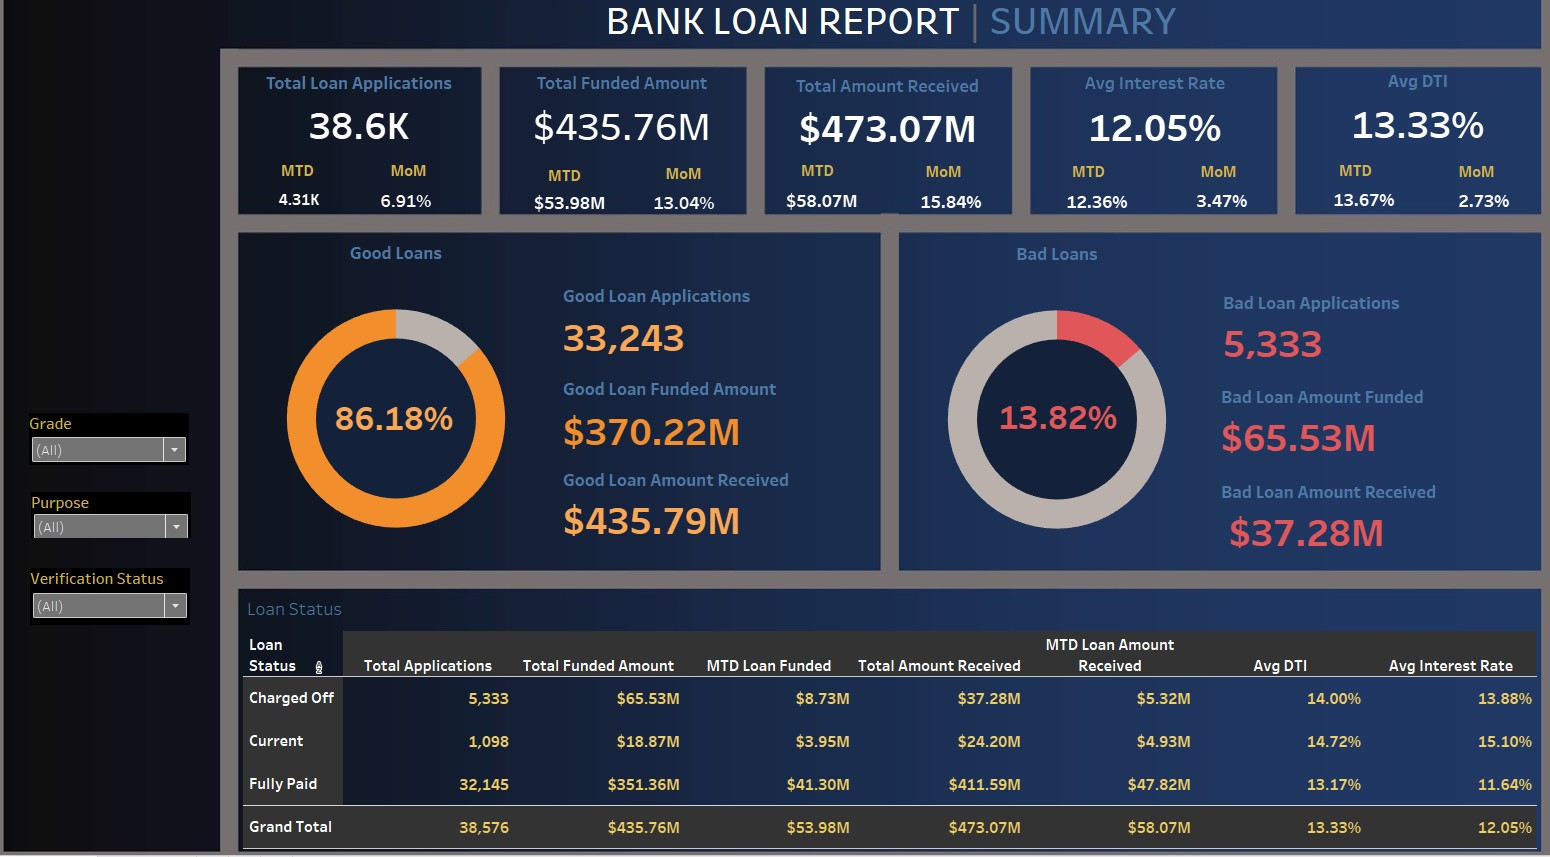

What the dashboard file says about the page in this screenshot:
{"tool":"tableau","page":{"name":"Loan Summary Dashboard","canvas":[1600,900],"ordinal":0},"visuals":[{"type":"image","param":"C:/Users/Darshil Shah/OneDrive - Northeastern University/Desktop/Loan data Table","box":[8,8,1584,884]},{"type":"text","box":[629,10,581,76]},{"type":"worksheet","title":"Avg DTI","mark":"Automatic","box":[1324,94,242,78]},{"type":"worksheet","title":"Total Funded Amount","mark":"Automatic","box":[526,95,246,78]},{"type":"worksheet","title":"Avg Interest Rate","mark":"Automatic","box":[1058,95,248,80]},{"type":"worksheet","title":"Total Loan Applications","mark":"Automatic","box":[267,96,238,76]},{"type":"worksheet","title":"Total Amount Received","mark":"Automatic","box":[792,98,245,76]},{"type":"text","box":[298,184,53,30]},{"type":"text","box":[409,184,53,30]},{"type":"text","box":[818,184,53,30]},{"type":"text","box":[1356,184,53,30]},{"type":"text","box":[944,185,53,30]},{"type":"text","box":[1089,185,53,30]},{"type":"text","box":[1219,185,53,30]},{"type":"text","box":[1477,185,53,30]},{"type":"text","box":[684,187,53,30]},{"type":"text","box":[565,189,53,30]},{"type":"worksheet","title":"MTD Total Loan Applications","mark":"Automatic","box":[298,214,56,28]},{"type":"worksheet","title":"MoM Avg DTI","mark":"Automatic","box":[1475,214,72,29]},{"type":"worksheet","title":"MoM Avg Interest Rate","mark":"Automatic","box":[1218,215,62,28]},{"type":"worksheet","title":"MTD Avg DTI","mark":"Automatic","box":[1353,215,75,26]},{"type":"worksheet","title":"MoM Total Applications","mark":"Automatic","box":[402,216,63,26]},{"type":"worksheet","title":"MTD Total Amount Received","mark":"Automatic","box":[805,216,88,25]},{"type":"worksheet","title":"MTD Avg Interest Rate","mark":"Automatic","box":[1087,216,73,27]},{"type":"worksheet","title":"MoM Total Amount Received","mark":"Automatic","box":[943,217,70,25]},{"type":"worksheet","title":"MTD Total Loan Funded","mark":"Automatic","box":[552,219,86,23]},{"type":"worksheet","title":"MoM Total Loan Funded","mark":"Automatic","box":[674,219,73,23]},{"type":"worksheet","title":"Good Loans","mark":"Pie","rows":["Calculation_1625236523001094145","Calculation_1625236523001094145"],"box":[273,266,300,325]},{"type":"worksheet","title":"Bad Loans","mark":"Pie","rows":["Calculation_1625236523001094145","Calculation_1625236523001094145"],"box":[934,267,300,325]},{"type":"worksheet","title":"Good Loan Applications","mark":"Automatic","box":[582,305,300,82]},{"type":"worksheet","title":"Bad Loan Applications","mark":"Automatic","box":[1242,312,300,80]},{"type":"worksheet","title":"Good Loan Funded Amount","mark":"Automatic","box":[582,398,300,84]},{"type":"worksheet","title":"Bad Loan%","mark":"Automatic","box":[1019,404,131,82]},{"type":"worksheet","title":"Good Loan%","mark":"Automatic","box":[352,406,137,79]},{"type":"worksheet","title":"Bad Loan Amount Funded","mark":"Automatic","box":[1240,406,300,80]},{"type":"worksheet","title":"Good Loan Amount Received","mark":"Automatic","box":[582,489,300,80]},{"type":"worksheet","title":"Bad Loan Amount Received","mark":"Automatic","box":[1240,501,300,80]}]}

Visuals, with their boxes in screenshot pixels (x1, y1, x2, y2), scaled from the page's 1600x900 canvas onto the 1550x857 screenshot:
image: box=[8, 8, 1542, 849]
text: box=[609, 10, 1172, 82]
"Avg DTI" worksheet: box=[1283, 90, 1517, 164]
"Total Funded Amount" worksheet: box=[510, 90, 748, 165]
"Avg Interest Rate" worksheet: box=[1025, 90, 1265, 167]
"Total Loan Applications" worksheet: box=[259, 91, 489, 164]
"Total Amount Received" worksheet: box=[767, 93, 1005, 166]
text: box=[289, 175, 340, 204]
text: box=[396, 175, 448, 204]
text: box=[792, 175, 844, 204]
text: box=[1314, 175, 1365, 204]
text: box=[914, 176, 966, 205]
text: box=[1055, 176, 1106, 205]
text: box=[1181, 176, 1232, 205]
text: box=[1431, 176, 1482, 205]
text: box=[663, 178, 714, 207]
text: box=[547, 180, 599, 209]
"MTD Total Loan Applications" worksheet: box=[289, 204, 343, 230]
"MoM Avg DTI" worksheet: box=[1429, 204, 1499, 231]
"MoM Avg Interest Rate" worksheet: box=[1180, 205, 1240, 231]
"MTD Avg DTI" worksheet: box=[1311, 205, 1383, 229]
"MoM Total Applications" worksheet: box=[389, 206, 450, 230]
"MTD Total Amount Received" worksheet: box=[780, 206, 865, 229]
"MTD Avg Interest Rate" worksheet: box=[1053, 206, 1124, 231]
"MoM Total Amount Received" worksheet: box=[914, 207, 981, 230]
"MTD Total Loan Funded" worksheet: box=[535, 209, 618, 230]
"MoM Total Loan Funded" worksheet: box=[653, 209, 724, 230]
"Good Loans" worksheet (Pie marks): box=[264, 253, 555, 563]
"Bad Loans" worksheet (Pie marks): box=[905, 254, 1195, 564]
"Good Loan Applications" worksheet: box=[564, 290, 854, 369]
"Bad Loan Applications" worksheet: box=[1203, 297, 1494, 373]
"Good Loan Funded Amount" worksheet: box=[564, 379, 854, 459]
"Bad Loan%" worksheet: box=[987, 385, 1114, 463]
"Good Loan%" worksheet: box=[341, 387, 474, 462]
"Bad Loan Amount Funded" worksheet: box=[1201, 387, 1492, 463]
"Good Loan Amount Received" worksheet: box=[564, 466, 854, 542]
"Bad Loan Amount Received" worksheet: box=[1201, 477, 1492, 553]
